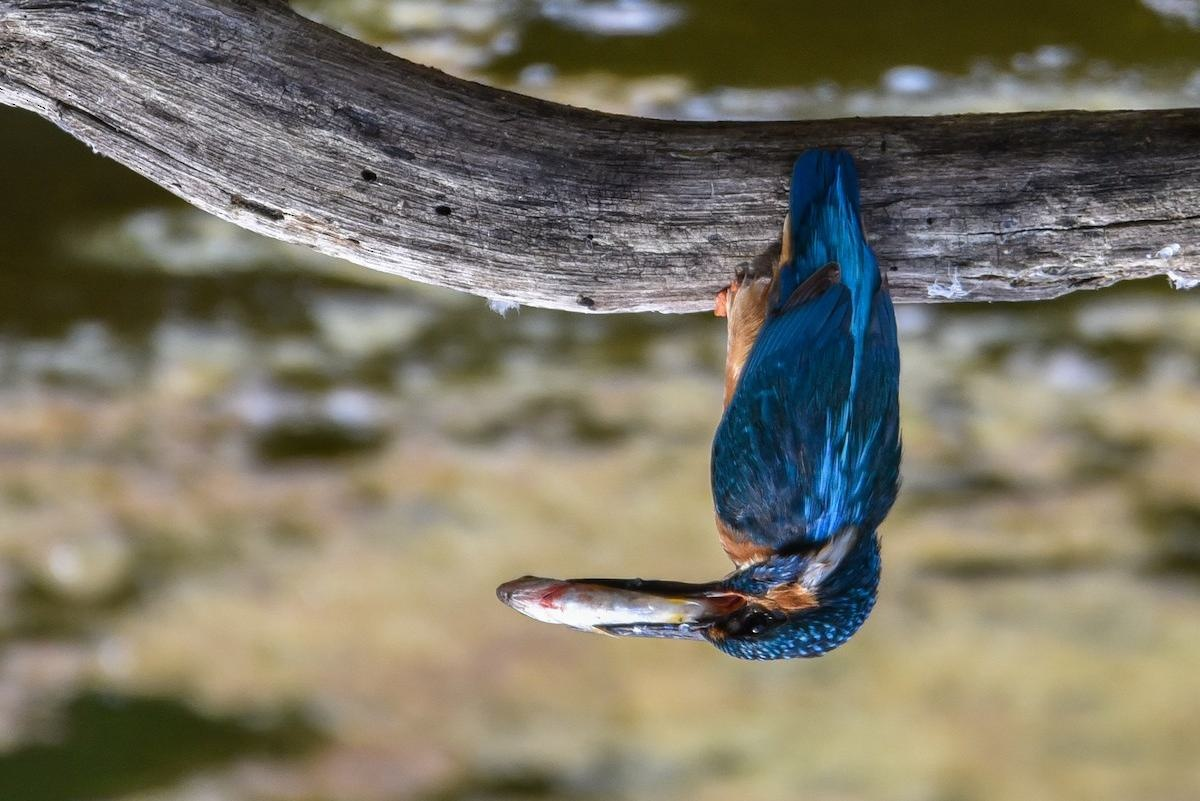kingfisher: (600, 144, 920, 681)
